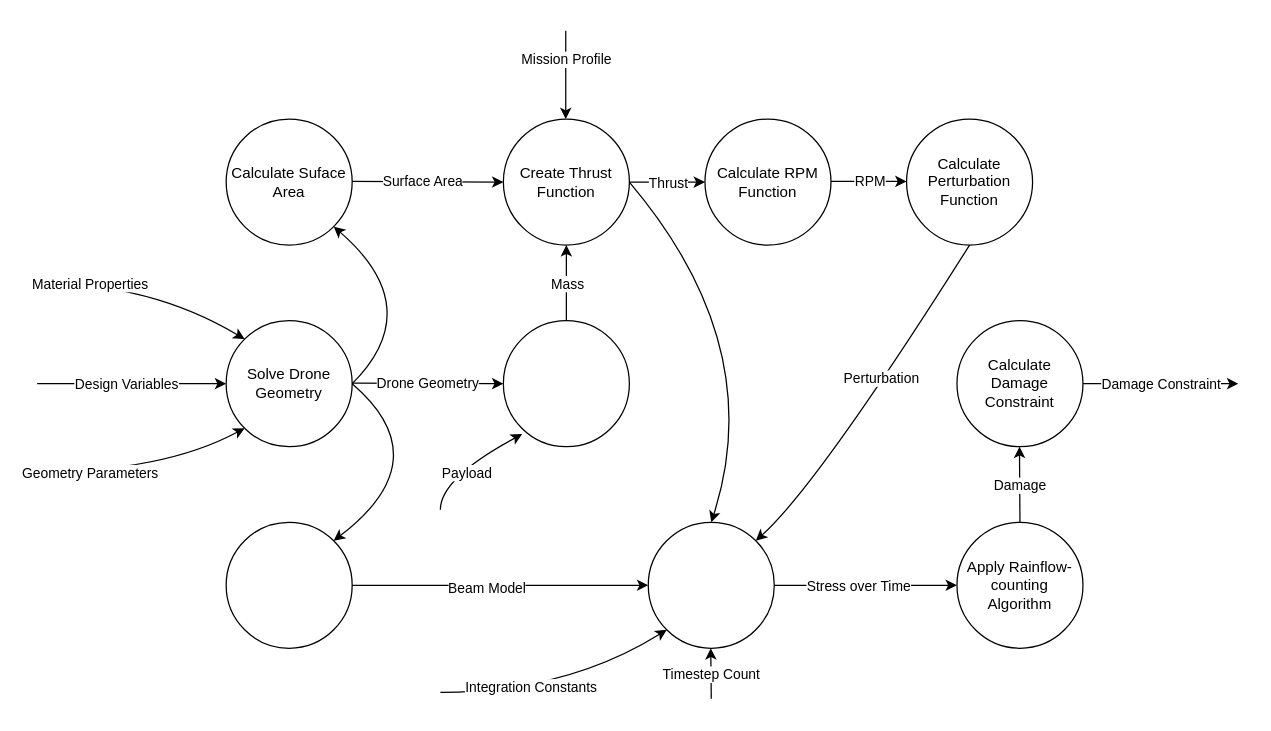
Some shapes in this 1271 by 731 pixel diagram are drawn without their labels. Each missing label, with the centre of its shape:
"Calculate Total Mass" belongs at point (565, 383).
"Create Beam Model" belongs at point (288, 584).
"Solve Stresses over Time" belongs at point (710, 584).
